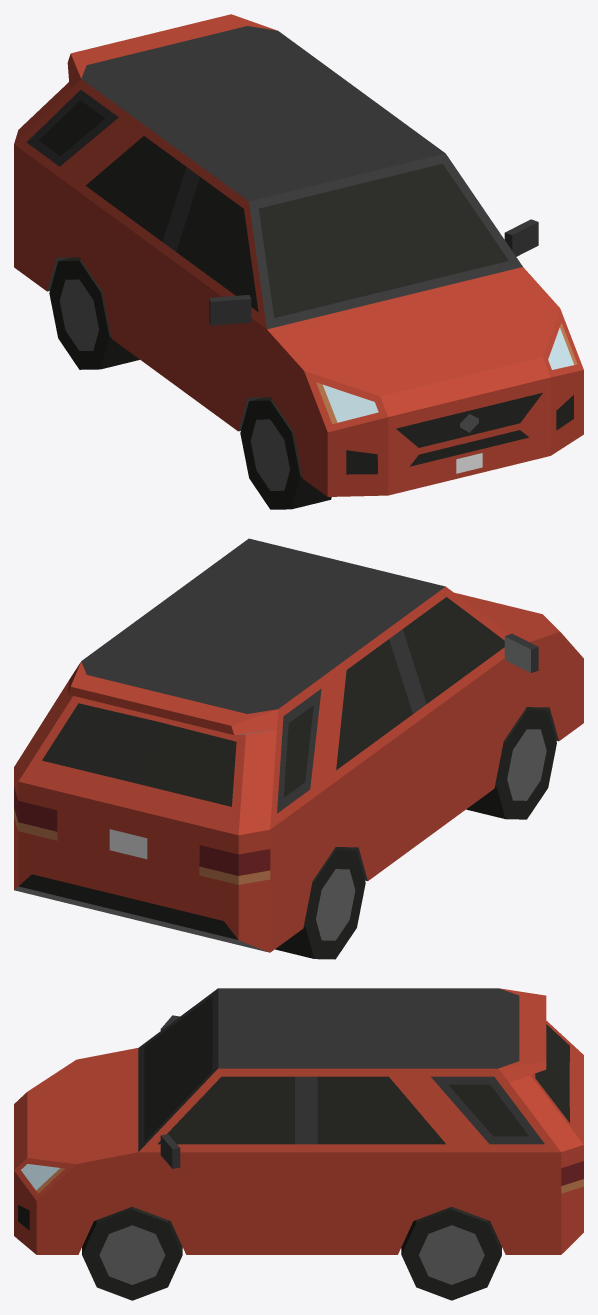
The model's file is Veh_SUV_01_Red.obj.
3 renders of one model, top to bottom at view 1: azimuth 30°, elevation 25°; view 2: azimuth 150°, elevation 25°; view 3: azimuth 270°, elevation 25°, orthographic. The views are drawn at different scales.
Bounding box in the file's own units: 1.33 × 1.02 × 2.4.
